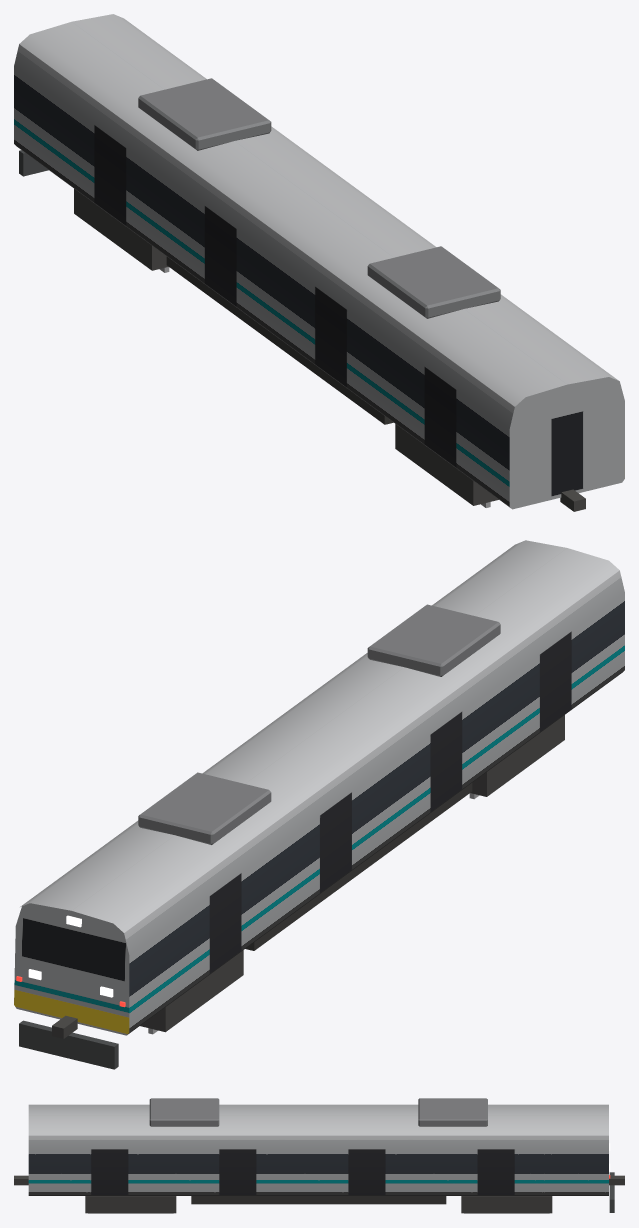
Rendered from metro_cab_lod1.glb.
3 views of the same model, one above another, from view 1: azimuth 30°, elevation 25°; view 2: azimuth 150°, elevation 25°; view 3: azimuth 270°, elevation 25° (orthographic). The views are drawn at different scales.
Visible parts, largest first — view 1: body; view 2: body; view 3: body.
Part boxes in pixels (x1,y1,x2,y2): body: [14, 14, 624, 511]; body: [14, 540, 624, 1069]; body: [14, 1098, 624, 1213].
Bounding box in the file's own units: 2.9 × 3.95 × 22.75.
2 materials, 2 textured.
